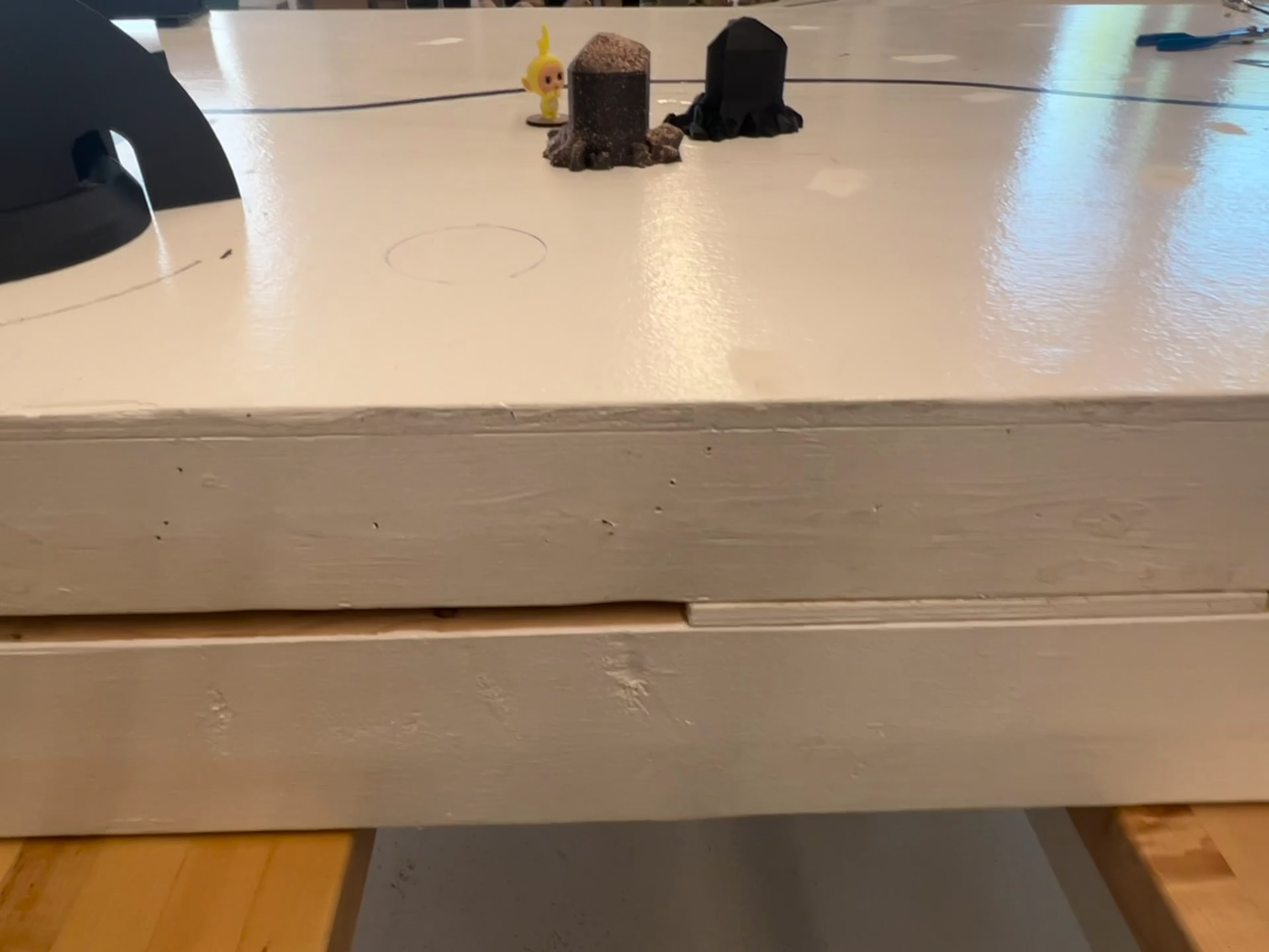teletubby: (521, 26, 566, 126)
